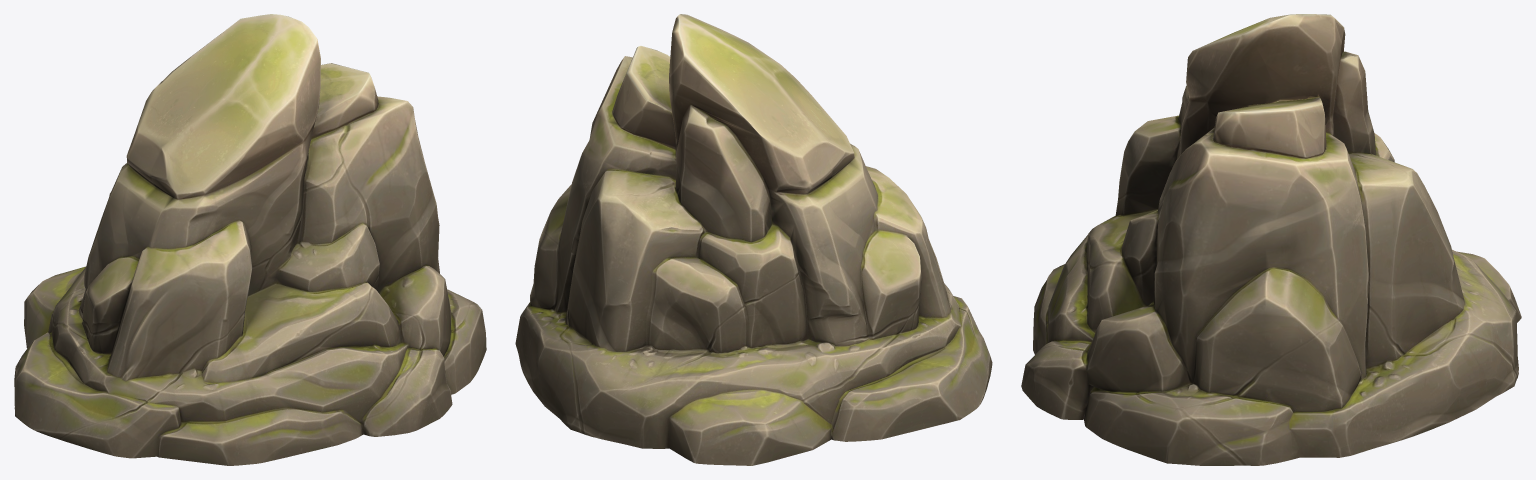
File: rock-a.glb
The picture shows the model from 3 angles, left to right: view 1: azimuth 30°, elevation 25°; view 2: azimuth 150°, elevation 25°; view 3: azimuth 270°, elevation 25°; orthographic projection. The views are drawn at different scales.
Visible parts, largest first — view 1: Rock; view 2: Rock; view 3: Rock.
Part boxes in pixels (left/top/right/bottom): Rock: left=14, top=14, right=486, bottom=465; Rock: left=515, top=14, right=992, bottom=465; Rock: left=1021, top=14, right=1521, bottom=465.
Size of the model in its own units: 2 by 1.48 by 1.83.
Materials: 1 (1 with a texture image).
